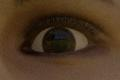eye: (42, 29, 76, 52)
